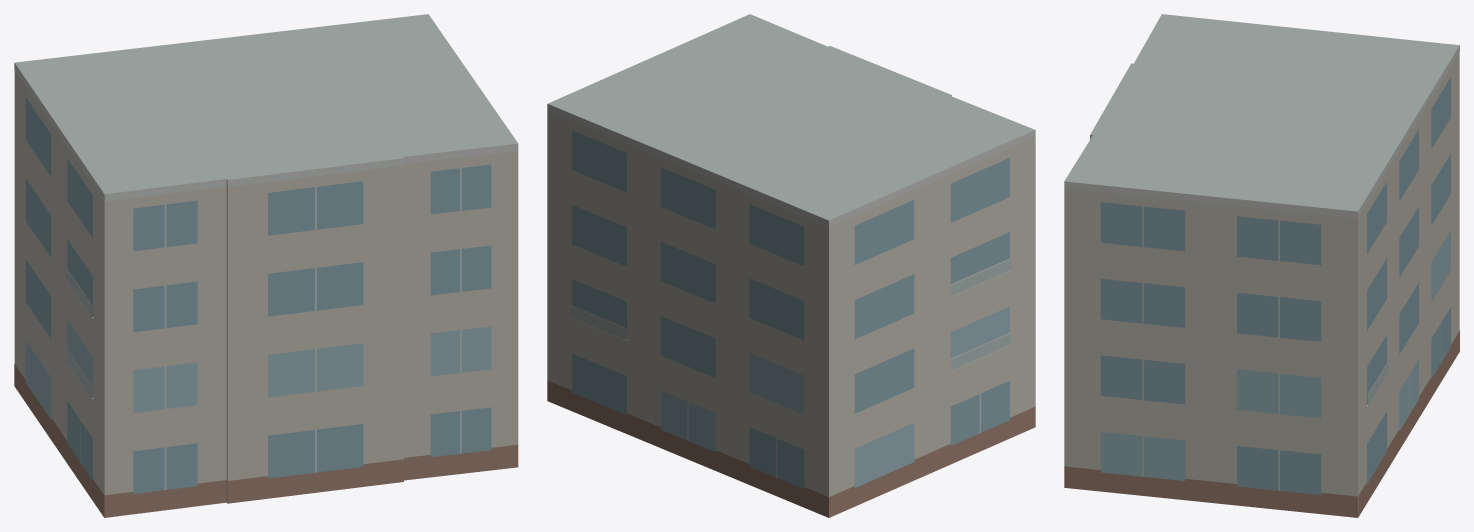
Rendered from survey-upis-32886030.glb.
3 renders of one model, left to right at view 1: azimuth 30°, elevation 25°; view 2: azimuth 150°, elevation 25°; view 3: azimuth 270°, elevation 25°, orthographic. The views are drawn at different scales.
Visible parts, largest first — view 1: survey-upis-32886030.tmp; view 2: survey-upis-32886030.tmp; view 3: survey-upis-32886030.tmp.
Boxes of the visible parts, <box> form: survey-upis-32886030.tmp: <box>14,14,518,517</box>; survey-upis-32886030.tmp: <box>547,14,1035,517</box>; survey-upis-32886030.tmp: <box>1064,14,1459,517</box>.
Size of the model in its own units: 14.74 by 10.65 by 12.47.
